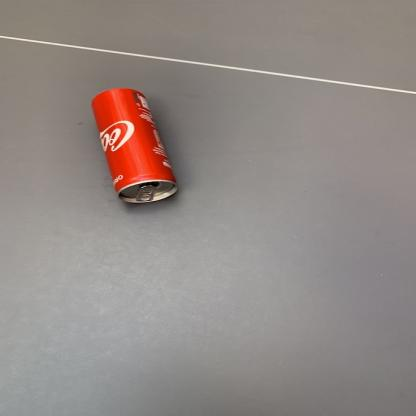trash: (91, 88, 182, 208)
